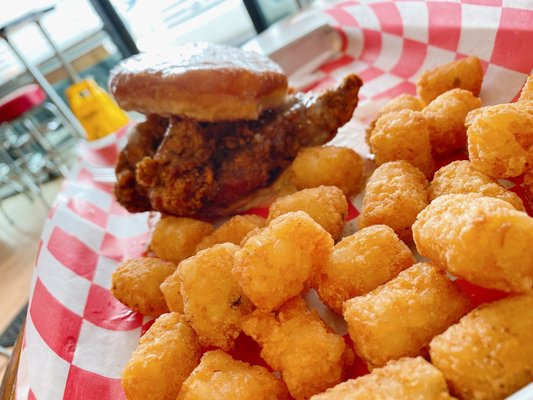pasta: (343, 260, 469, 369)
soup: (108, 42, 352, 219)
